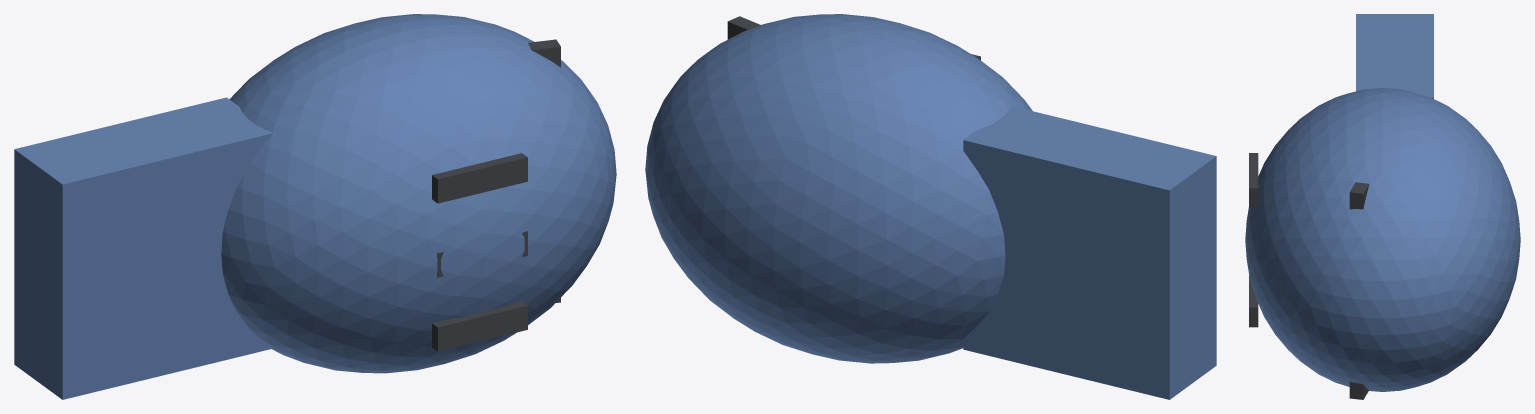
The picture shows the model from 3 angles, left to right: view 1: azimuth 30°, elevation 25°; view 2: azimuth 150°, elevation 25°; view 3: azimuth 270°, elevation 25°; orthographic projection. The views are drawn at different scales.
Parts seen in each view (by area): view 1: geometry_0; view 2: geometry_0; view 3: geometry_0.
Part boxes in pixels (<box>): geometry_0: <box>14,14,616,399</box>; geometry_0: <box>645,14,1216,399</box>; geometry_0: <box>1245,14,1520,399</box>.
Bounding box in the file's own units: 0.43 × 0.24 × 0.23.
